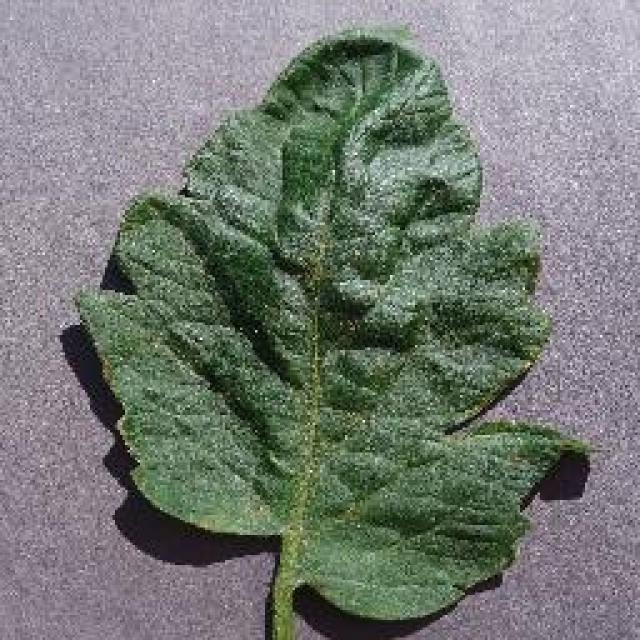Tomato___Target_Spot: (78, 30, 588, 638)
